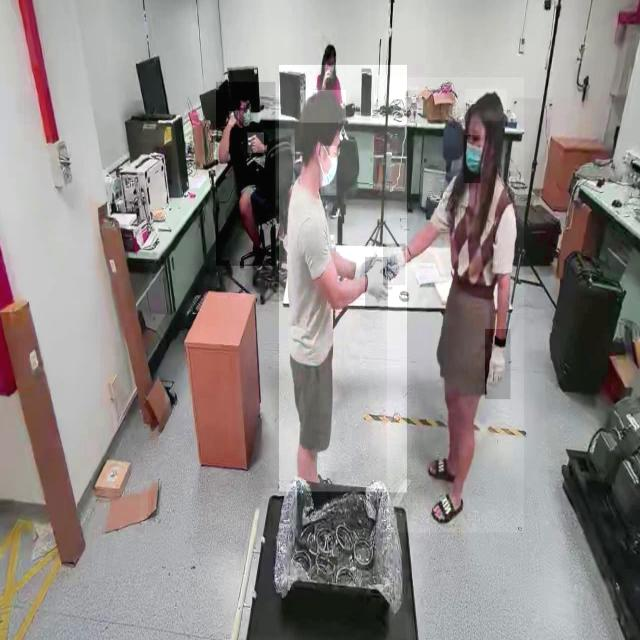face_mask: (464, 135, 481, 183), (321, 146, 336, 196), (240, 104, 254, 140)
face_nomask: (325, 57, 337, 72)
hand_glove: (484, 329, 510, 400), (351, 242, 381, 286), (364, 257, 388, 308), (383, 243, 405, 286)
hand_noglove: (247, 132, 264, 154), (229, 111, 239, 125), (324, 67, 334, 79)
head_nohelmet: (300, 90, 346, 124), (465, 89, 507, 122), (234, 85, 252, 102), (324, 42, 337, 56)
person: (386, 78, 524, 534), (279, 65, 407, 492), (216, 81, 276, 266), (313, 36, 347, 98)
